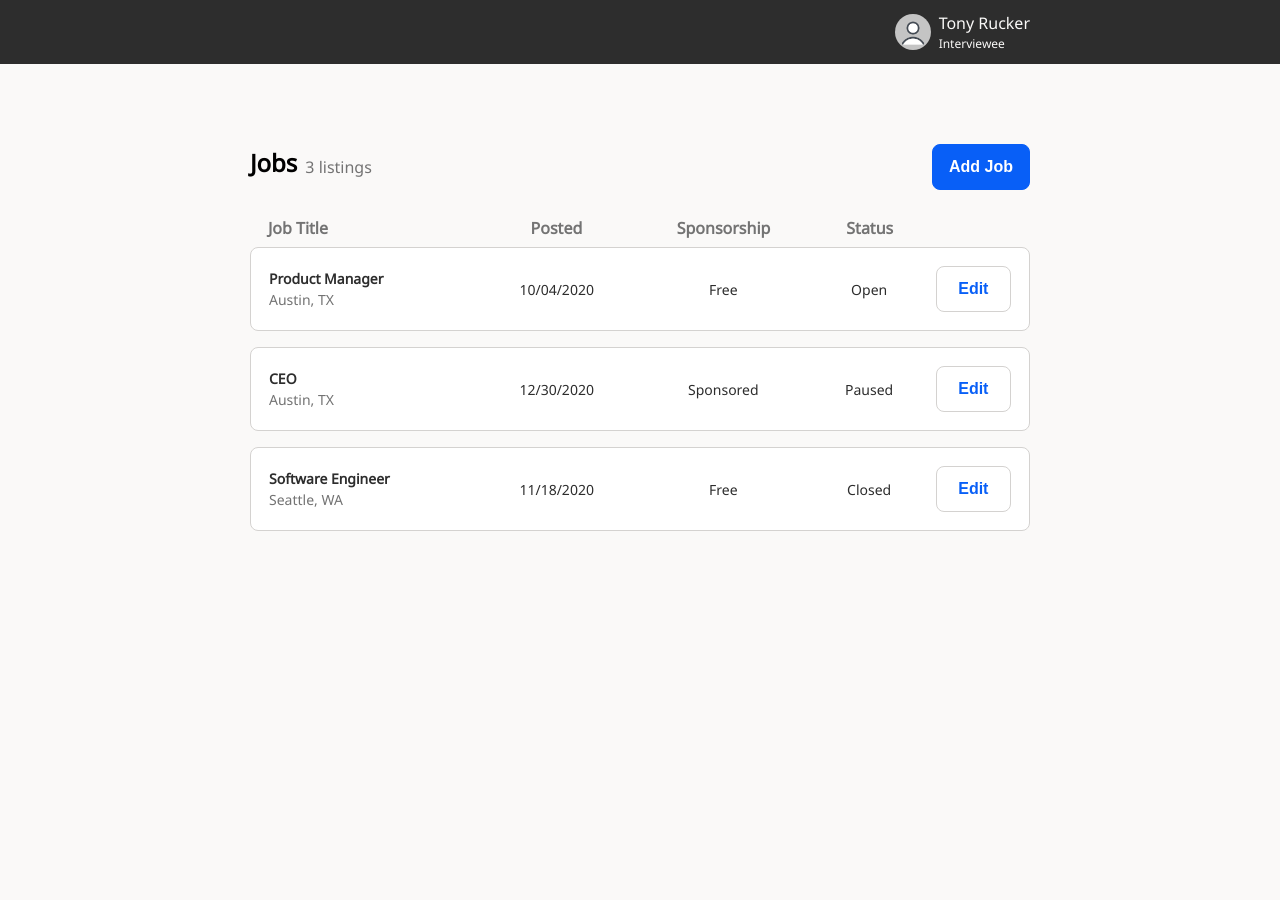
Test: JobListingPage component tests › JobListingPage should output form if state is set to add Job
# simulate state change by clicking Add Job button
Click the button "Add Job": (981, 167) [932,144,1030,190]
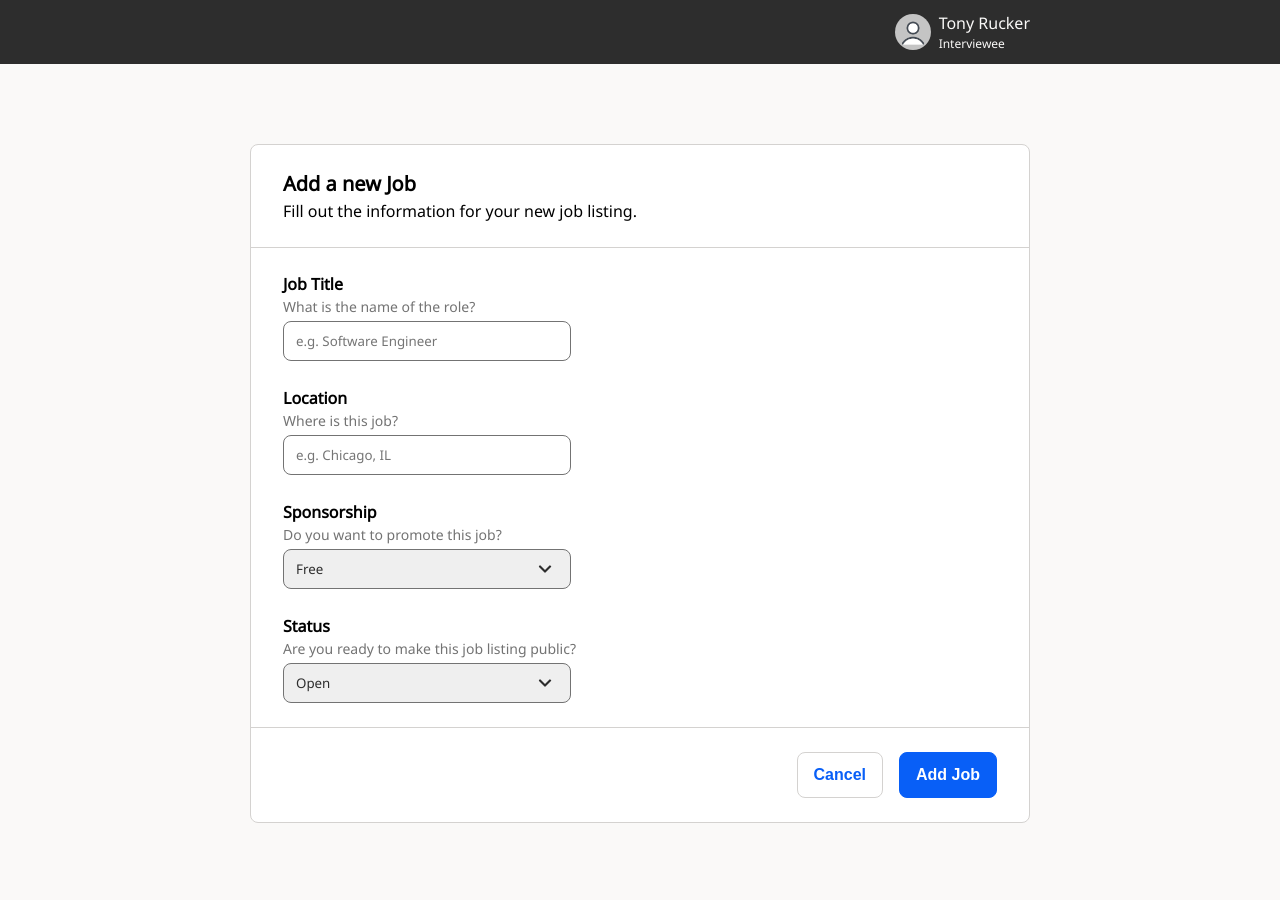
Expected: the number of "NavigationBar" components is 1, [0,0,1279,64]
Result: the number of "JobPostingForm" components is 1 at [250,144,1030,823]
